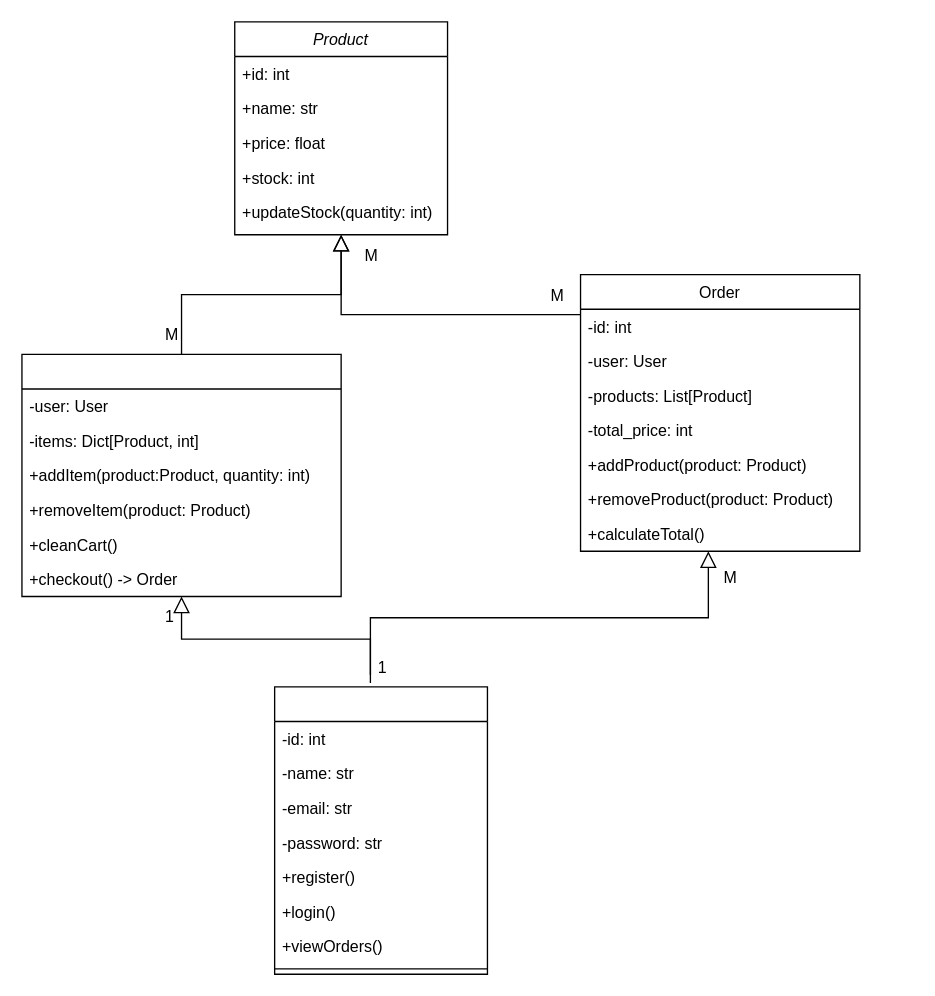
This 935x996 diagram has some shape labels left out. The shapes that lost their labels are listed below. From the top down, each one's box as (x1, y1, x2, y2) in pixels, then its label:
(21, 353, 341, 597): ShoppingCart
(273, 686, 487, 974): User
